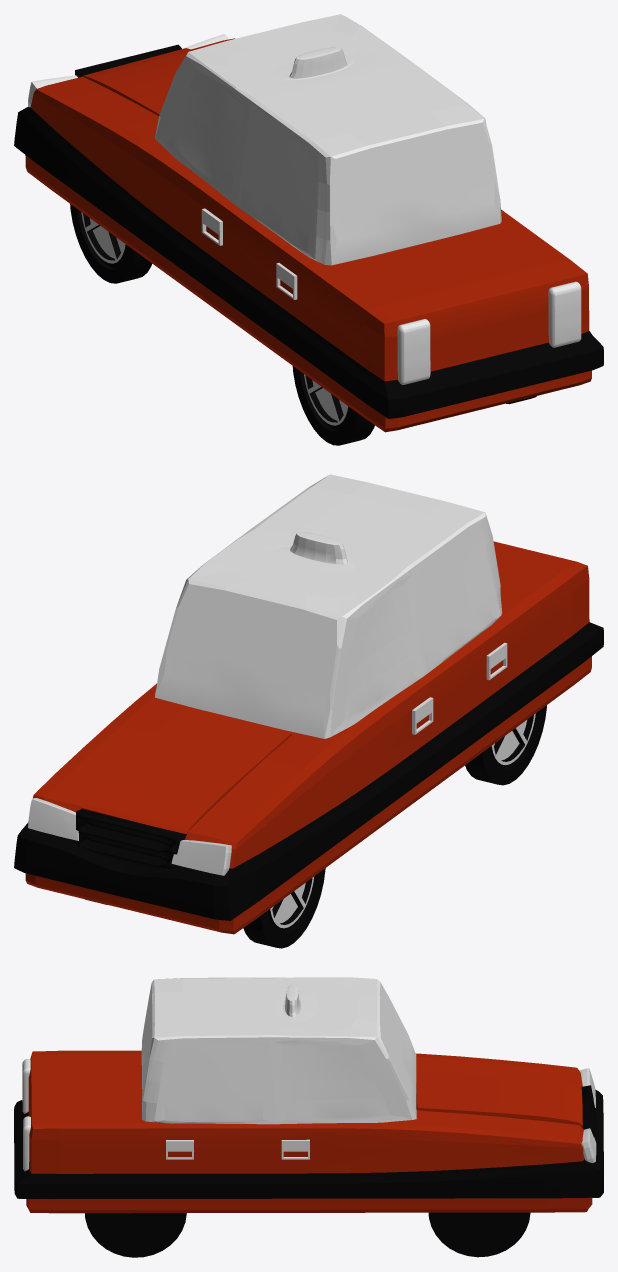
The model's file is Taxi01.fbx.
The picture shows the model from 3 angles, top to bottom: view 1: azimuth 30°, elevation 25°; view 2: azimuth 150°, elevation 25°; view 3: azimuth 270°, elevation 25°; orthographic projection. The views are drawn at different scales.
Visible parts, largest first — view 1: CarLower, WheelLeftFront, WheelLeftAfter; view 2: CarLower, WheelLeftFront, WheelLeftAfter; view 3: CarLower, WheelRightFront, WheelRightBehind.
Part boxes in pixels (x1=…): CarLower: x1=14, y1=14, x2=603, y2=432; WheelLeftFront: x1=70, y1=204, x2=152, y2=283; WheelLeftAfter: x1=292, y1=366, x2=374, y2=445; CarLower: x1=14, y1=474, x2=603, y2=934; WheelLeftFront: x1=243, y1=868, x2=325, y2=948; WheelLeftAfter: x1=465, y1=705, x2=546, y2=785; CarLower: x1=14, y1=977, x2=603, y2=1213; WheelRightFront: x1=428, y1=1212, x2=530, y2=1257; WheelRightBehind: x1=85, y1=1213, x2=186, y2=1257.
Size of the model in its own units: 210 by 267 by 626.
